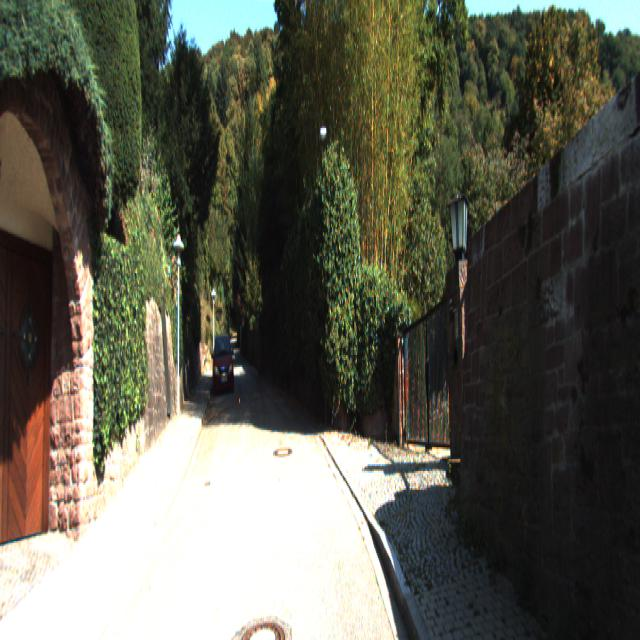Car: (212, 331, 234, 399)
